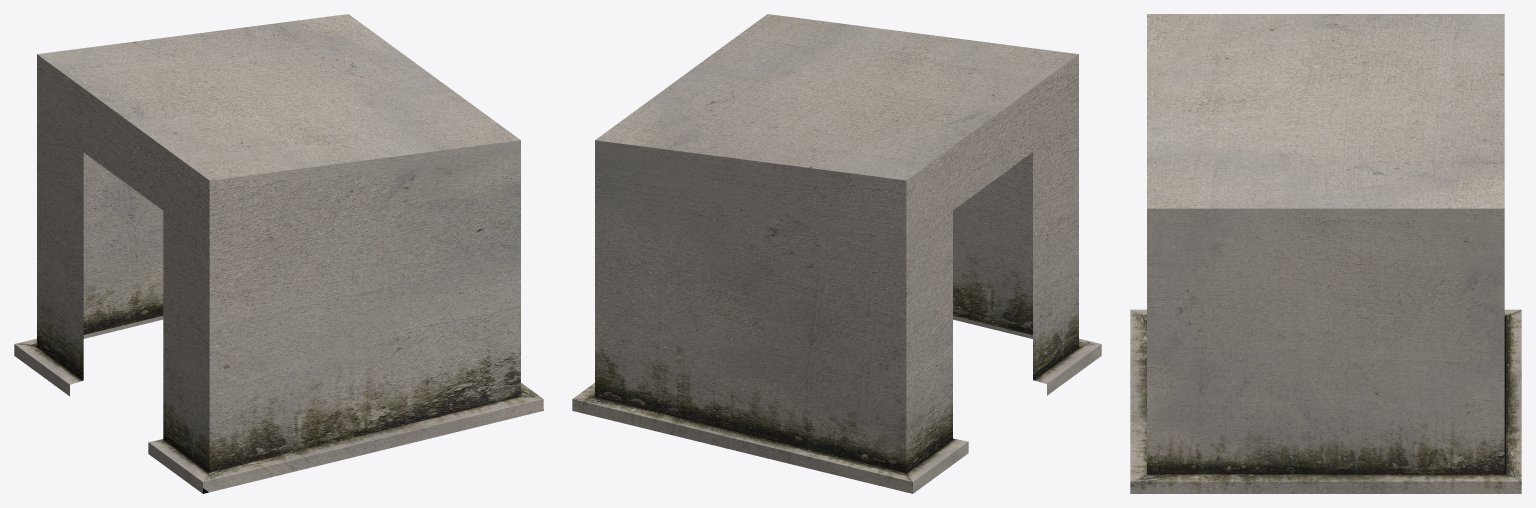
File: ap01_Rooftop exitobj.obj
3 renders of one model, left to right at view 1: azimuth 30°, elevation 25°; view 2: azimuth 150°, elevation 25°; view 3: azimuth 270°, elevation 25°, orthographic. The views are drawn at different scales.
Parts seen in each view (by area): view 1: Cube_Cube.001; view 2: Cube_Cube.001; view 3: Cube_Cube.001.
Boxes of the visible parts, box(x1,y1,x2,y2) form: Cube_Cube.001: box(14, 14, 543, 493); Cube_Cube.001: box(572, 14, 1101, 493); Cube_Cube.001: box(1130, 14, 1521, 493).
Bounding box in the file's own units: 3.12 × 2.66 × 2.99.
